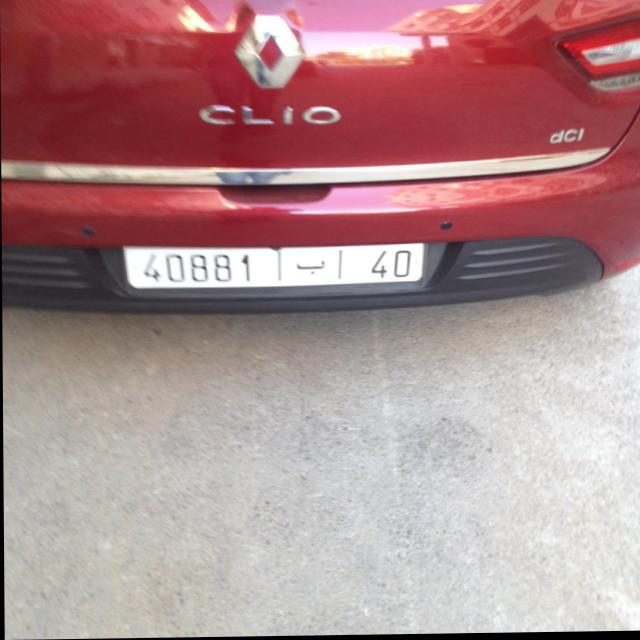License-Plate: (123, 246, 423, 290)
